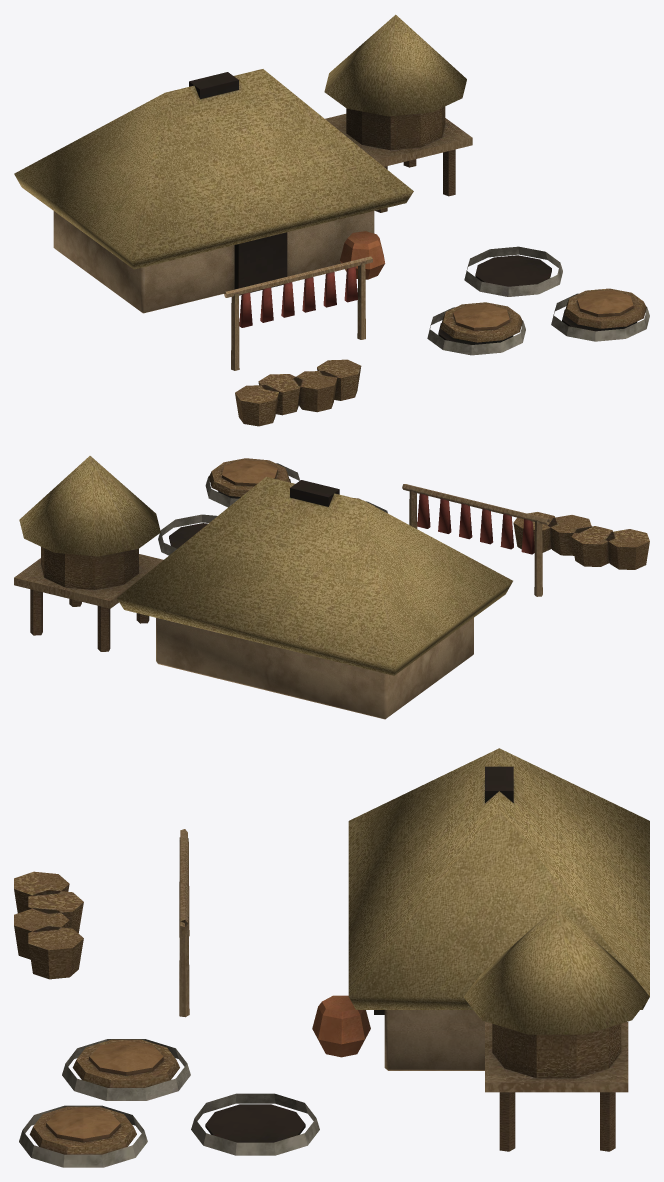
File: storage_pits.glb
3 views of the same model, one above another, from view 1: azimuth 30°, elevation 25°; view 2: azimuth 150°, elevation 25°; view 3: azimuth 270°, elevation 25° (orthographic). The views are drawn at different scales.
Parts seen in each view (by area): view 1: LOD0; view 2: LOD0; view 3: LOD0.
Boxes of the visible parts, <box> form: LOD0: <box>14,14,649,426</box>; LOD0: <box>14,456,649,719</box>; LOD0: <box>14,748,649,1167</box>.
Size of what is drawn, in the model's own units: 0.8654 by 0.344 by 0.8868.
Materials: 1 (1 with a texture image).
